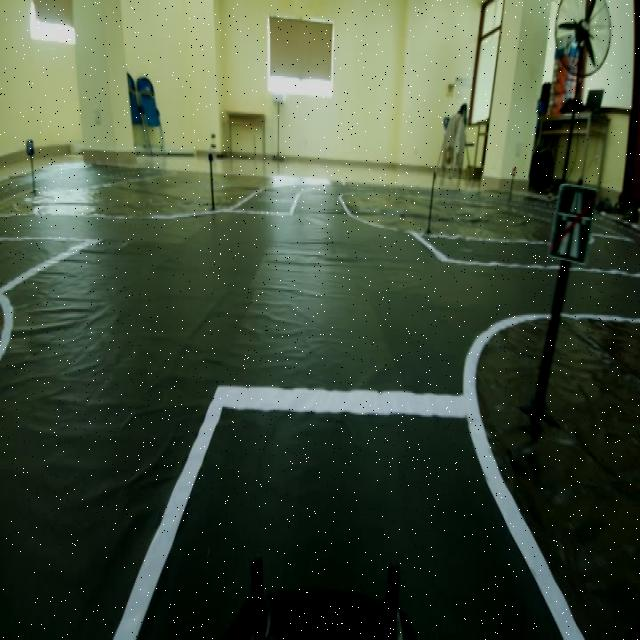highway_exit: (551, 168, 597, 287)
